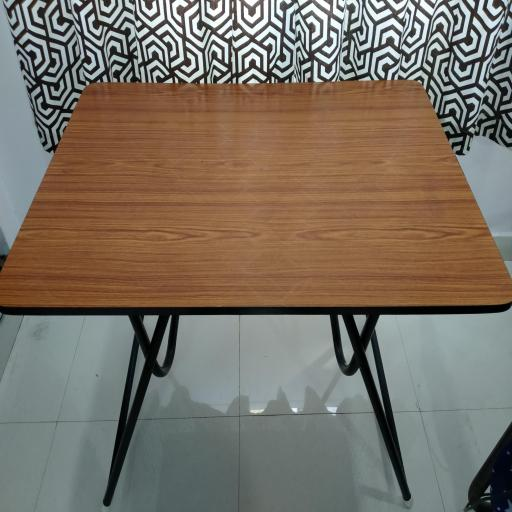table: (0, 66, 512, 512)
